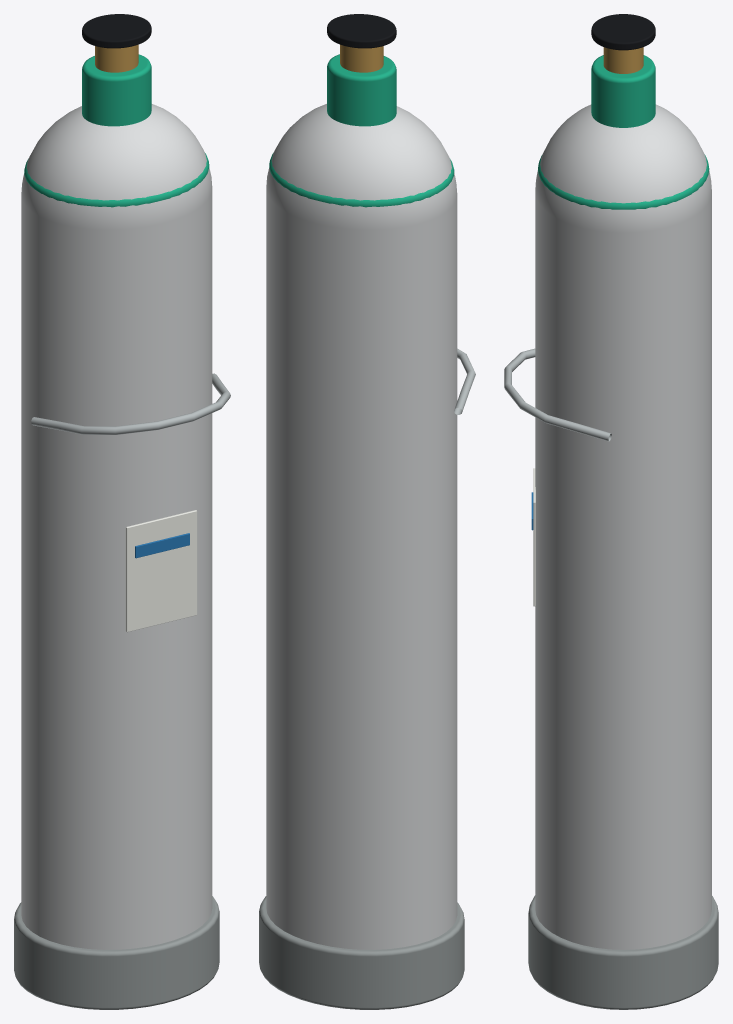
File: gas-cylinder.glb
3 renders of one model, left to right at view 1: azimuth 30°, elevation 25°; view 2: azimuth 150°, elevation 25°; view 3: azimuth 270°, elevation 25°, orthographic.
Visible parts, largest first — view 1: Runtime batch - Polished process stainless steel, Runtime batch - Powder coat service gray, Runtime batch - Matte equipment label, Runtime batch - Emergency equipment green, Runtime batch - Zinc plated hardware, Runtime batch - Matte black coated handle, Runtime batch - Valve brass, Runtime batch - Technical label blue; view 2: Runtime batch - Polished process stainless steel, Runtime batch - Powder coat service gray, Runtime batch - Emergency equipment green, Runtime batch - Matte black coated handle, Runtime batch - Valve brass, Runtime batch - Zinc plated hardware; view 3: Runtime batch - Polished process stainless steel, Runtime batch - Powder coat service gray, Runtime batch - Emergency equipment green, Runtime batch - Matte black coated handle, Runtime batch - Zinc plated hardware, Runtime batch - Valve brass.
Part boxes in pixels (bbox=[...]): Runtime batch - Polished process stainless steel: bbox=[21, 104, 212, 949]; Runtime batch - Powder coat service gray: bbox=[14, 896, 219, 1009]; Runtime batch - Matte equipment label: bbox=[125, 510, 197, 632]; Runtime batch - Emergency equipment green: bbox=[24, 54, 209, 207]; Runtime batch - Zinc plated hardware: bbox=[31, 373, 230, 434]; Runtime batch - Matte black coated handle: bbox=[82, 14, 151, 48]; Runtime batch - Valve brass: bbox=[95, 44, 138, 72]; Runtime batch - Technical label blue: bbox=[135, 533, 189, 558]; Runtime batch - Polished process stainless steel: bbox=[266, 104, 457, 949]; Runtime batch - Powder coat service gray: bbox=[259, 896, 464, 1009]; Runtime batch - Emergency equipment green: bbox=[269, 54, 454, 207]; Runtime batch - Matte black coated handle: bbox=[327, 14, 396, 48]; Runtime batch - Valve brass: bbox=[340, 44, 383, 72]; Runtime batch - Zinc plated hardware: bbox=[454, 348, 475, 414]; Runtime batch - Polished process stainless steel: bbox=[535, 104, 711, 949]; Runtime batch - Powder coat service gray: bbox=[528, 895, 718, 1009]; Runtime batch - Emergency equipment green: bbox=[538, 55, 709, 209]; Runtime batch - Matte black coated handle: bbox=[591, 14, 655, 50]; Runtime batch - Zinc plated hardware: bbox=[504, 348, 611, 441]; Runtime batch - Valve brass: bbox=[603, 47, 643, 73].
Size of the model in its own units: 0.3 by 1.45 by 0.3.
